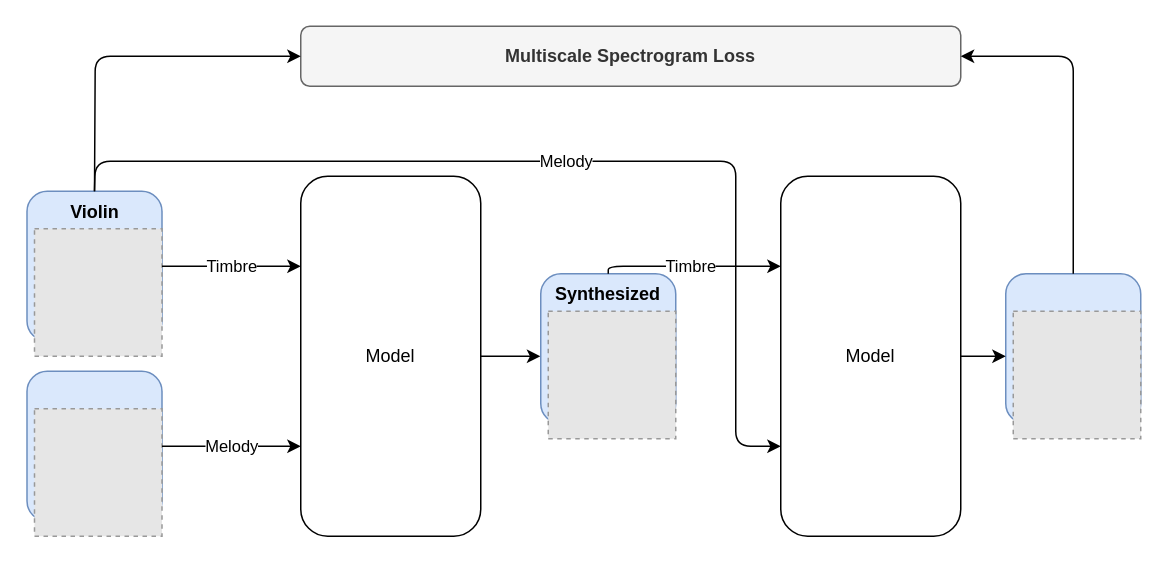
Image size: 1167x563. Some labels were removed from this diagram. Grey dashed boxes stand in for pictures. The shapes that lost their labels are listed below. From the top down, each one's box as (x1, y1, x2, y2) in pixels, then its label:
(1004, 272, 1141, 424): Cycle reconstruction of Violin
(26, 370, 162, 521): Singing
